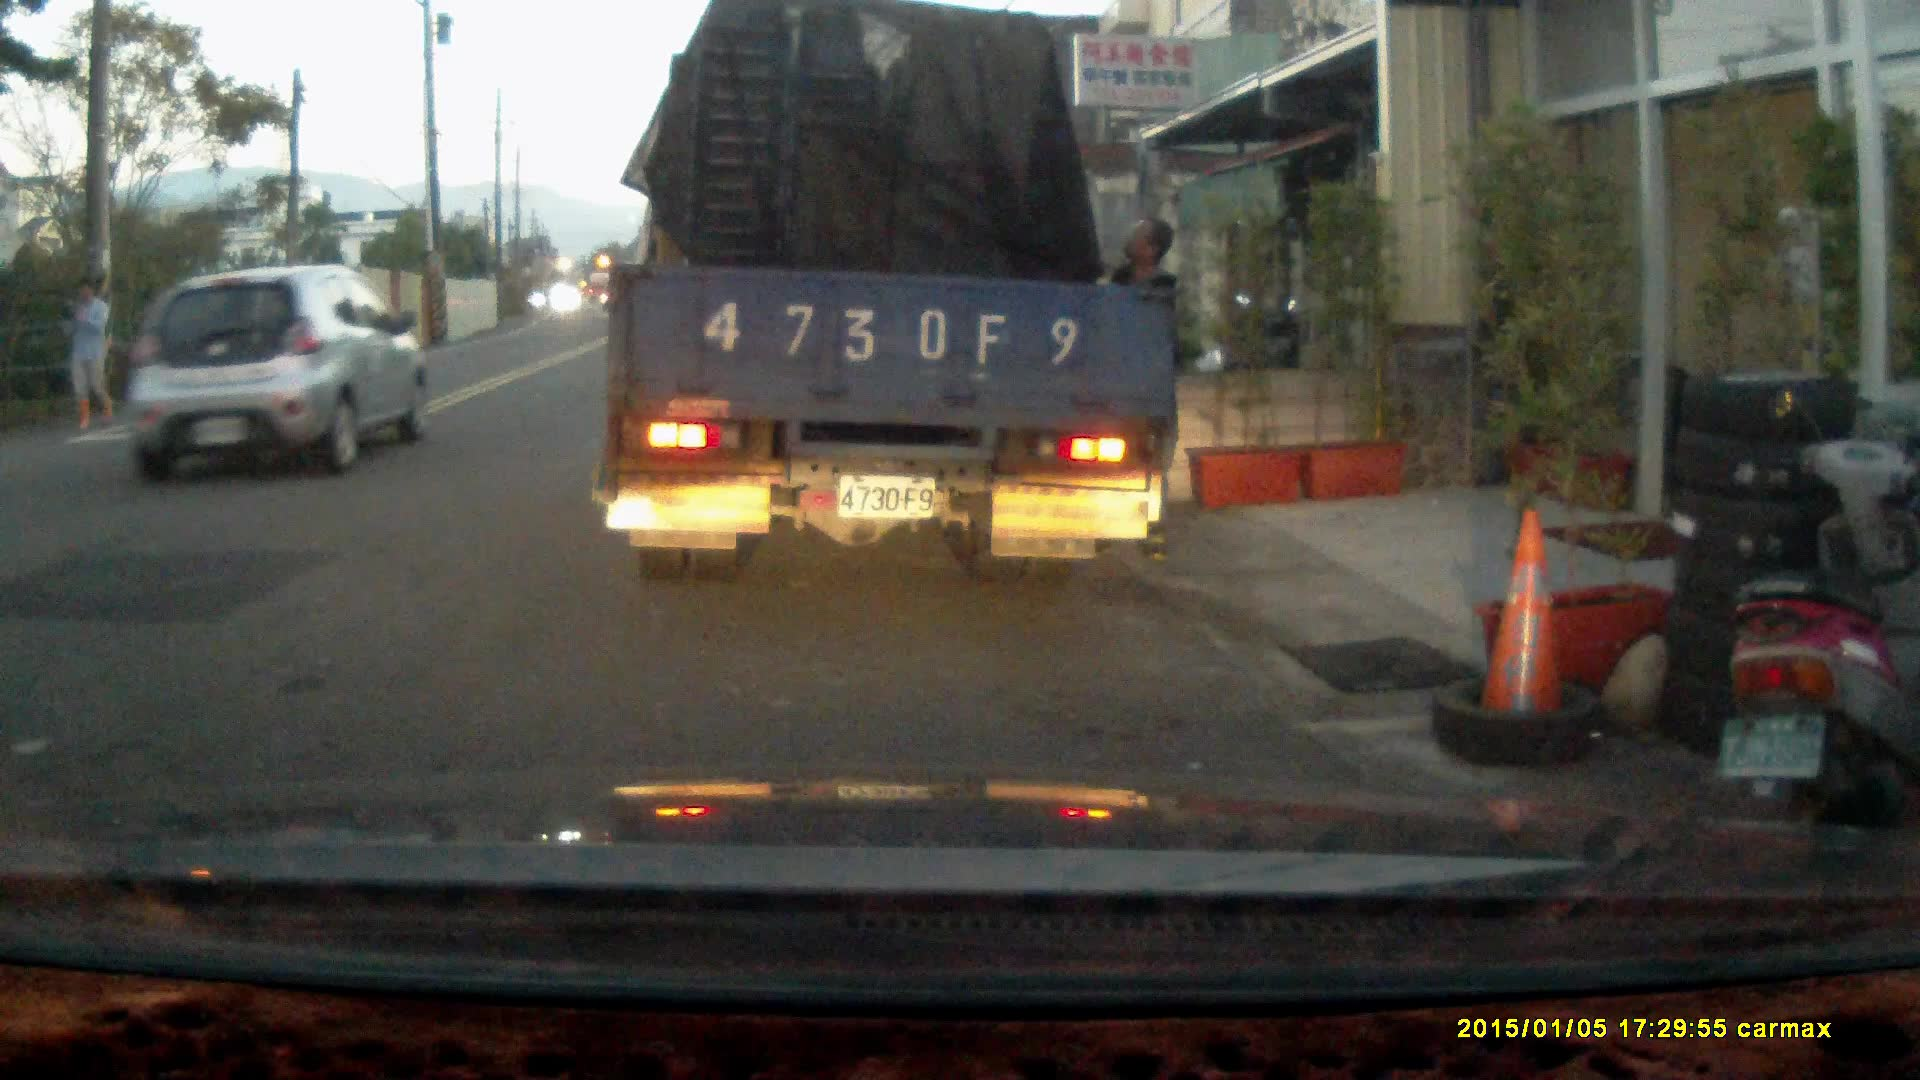pedestrian: (1085, 213, 1186, 567), (55, 274, 119, 423)
vehicle: (602, 23, 1186, 572), (121, 262, 430, 477)
